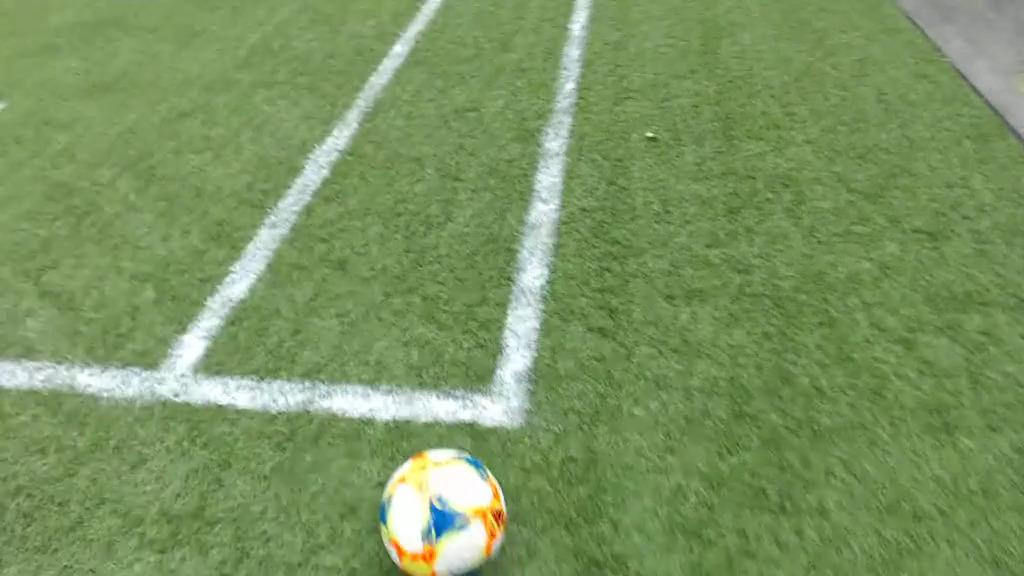ball: (381, 448, 506, 576)
